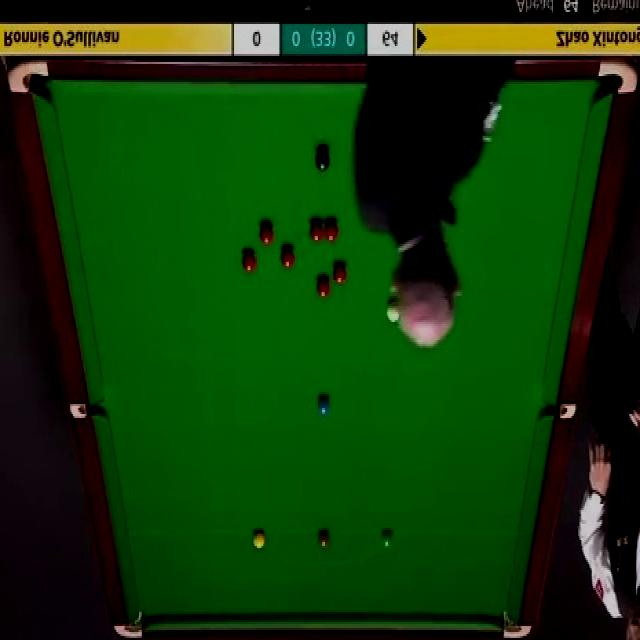black-ball: (315, 144, 331, 174)
blue-ball: (316, 396, 332, 417)
brown-ball: (317, 530, 330, 550)
green-ball: (381, 529, 394, 548)
red-ball: (240, 250, 258, 277), (258, 219, 275, 243), (333, 260, 349, 285), (279, 246, 295, 270), (324, 218, 338, 244), (309, 219, 324, 242), (317, 277, 332, 299)
white-ball: (386, 300, 401, 326)
yellow-ball: (251, 531, 265, 551)
